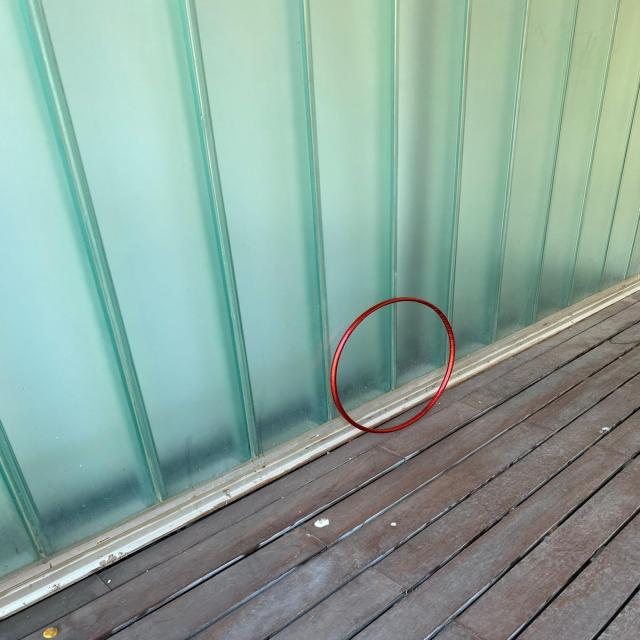Circle: (329, 296, 458, 432)
